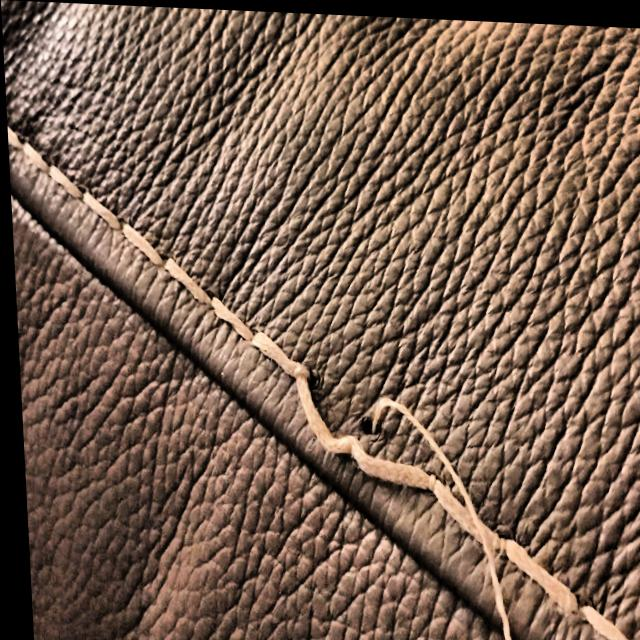Stitch: (202, 265, 494, 614)
